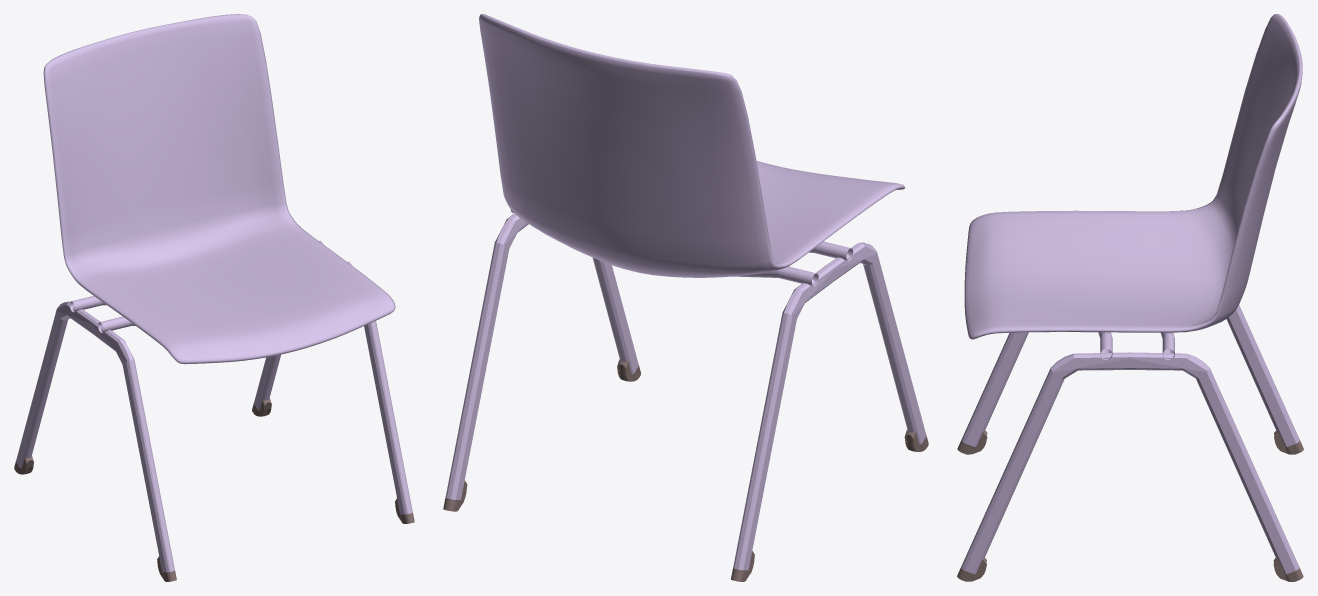
Rendered from chair.fbx.
The picture shows the model from 3 angles, left to right: view 1: azimuth 30°, elevation 25°; view 2: azimuth 150°, elevation 25°; view 3: azimuth 270°, elevation 25°; orthographic projection. The views are drawn at different scales.
Parts seen in each view (by area): view 1: seat#pc_mdd_shilap_back|1#pc_mdd_shilap_back|1.008, stelaz#pc_mdd_shilap_base|0|3290#pc_mdd_shilap_basecolor|1.0, stopka#pc_mdd_shilap_base|0|3290#color|202020.007, podlok#pc_mdd_shilap_basecolor|1#pc_mdd_shilap_armrest|0|30.; view 2: seat#pc_mdd_shilap_back|1#pc_mdd_shilap_back|1.008, stelaz#pc_mdd_shilap_base|0|3290#pc_mdd_shilap_basecolor|1.0, stopka#pc_mdd_shilap_base|0|3290#color|202020.007, podlok#pc_mdd_shilap_basecolor|1#pc_mdd_shilap_armrest|0|30.; view 3: seat#pc_mdd_shilap_back|1#pc_mdd_shilap_back|1.008, stelaz#pc_mdd_shilap_base|0|3290#pc_mdd_shilap_basecolor|1.0, stopka#pc_mdd_shilap_base|0|3290#color|202020.007, podlok#pc_mdd_shilap_basecolor|1#pc_mdd_shilap_armrest|0|30..
Part boxes in pixels (x1=…): seat#pc_mdd_shilap_back|1#pc_mdd_shilap_back|1.008: x1=43, y1=14, x2=395, y2=364; stelaz#pc_mdd_shilap_base|0|3290#pc_mdd_shilap_basecolor|1.0: x1=16, y1=301, x2=412, y2=572; stopka#pc_mdd_shilap_base|0|3290#color|202020.007: x1=14, y1=398, x2=414, y2=581; podlok#pc_mdd_shilap_basecolor|1#pc_mdd_shilap_armrest|0|30.: x1=69, y1=240, x2=351, y2=332; seat#pc_mdd_shilap_back|1#pc_mdd_shilap_back|1.008: x1=479, y1=14, x2=905, y2=277; stelaz#pc_mdd_shilap_base|0|3290#pc_mdd_shilap_basecolor|1.0: x1=445, y1=213, x2=926, y2=570; stopka#pc_mdd_shilap_base|0|3290#color|202020.007: x1=443, y1=359, x2=928, y2=581; podlok#pc_mdd_shilap_basecolor|1#pc_mdd_shilap_armrest|0|30.: x1=510, y1=209, x2=853, y2=286; seat#pc_mdd_shilap_back|1#pc_mdd_shilap_back|1.008: x1=964, y1=14, x2=1302, y2=339; stelaz#pc_mdd_shilap_base|0|3290#pc_mdd_shilap_basecolor|1.0: x1=961, y1=305, x2=1299, y2=574; stopka#pc_mdd_shilap_base|0|3290#color|202020.007: x1=957, y1=430, x2=1303, y2=581; podlok#pc_mdd_shilap_basecolor|1#pc_mdd_shilap_armrest|0|30.: x1=1098, y1=332, x2=1174, y2=359.
Size of the model in its own units: 13.85 by 21.8 by 15.22.
